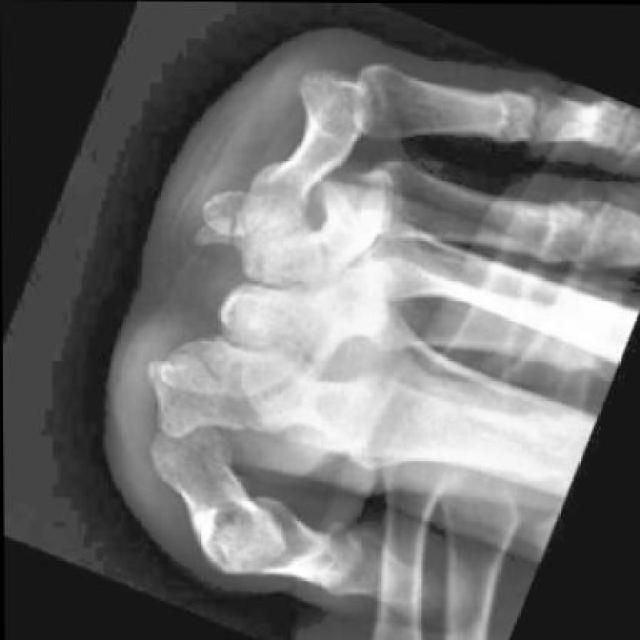Fracture: (206, 199, 253, 250)
